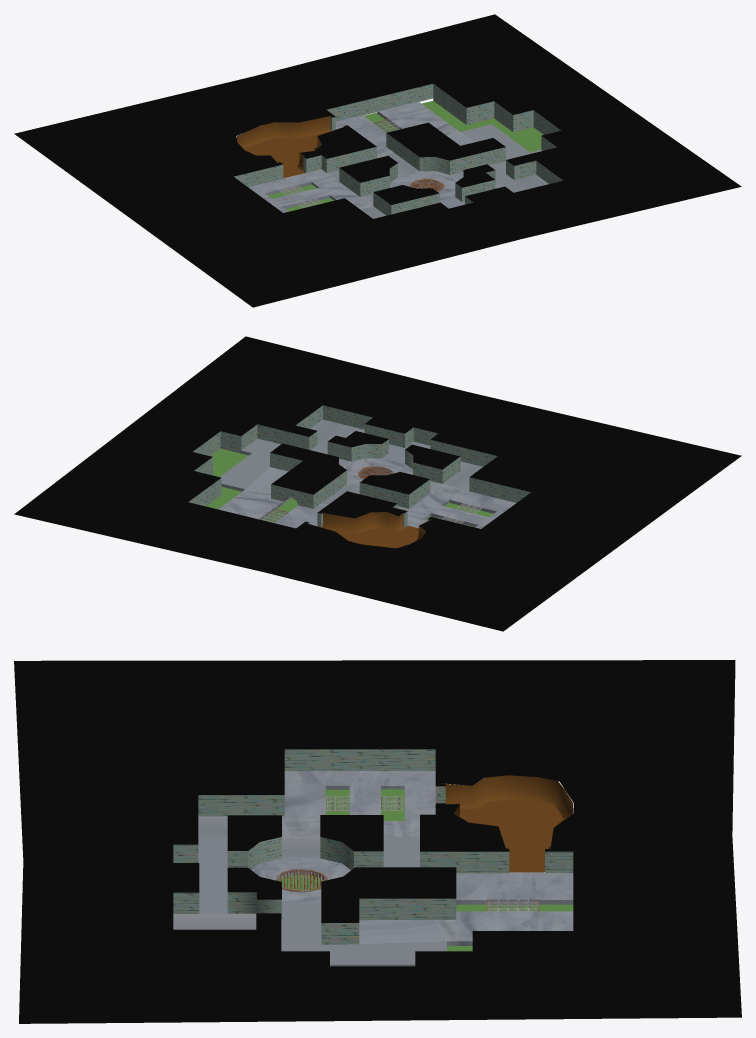
File: Sewer_Level.fbx
The picture shows the model from 3 angles, top to bottom: view 1: azimuth 30°, elevation 25°; view 2: azimuth 150°, elevation 25°; view 3: azimuth 270°, elevation 25°; orthographic projection. The views are drawn at different scales.
Parts seen in each view (by area): view 1: SW_Wall_Fill, SW_Wall_Brick, SW_Floor, SW_Room_Dirt, SW_Water; view 2: SW_Wall_Fill, SW_Wall_Brick, SW_Floor, SW_Room_Dirt, SW_Water; view 3: SW_Wall_Fill, SW_Floor, SW_Wall_Brick, SW_Room_Dirt, SW_Water, SW_GridCover.
Part boxes in pixels (x1,y1,x2,y2): SW_Wall_Fill: (14, 14, 741, 307); SW_Wall_Brick: (234, 83, 562, 215); SW_Floor: (248, 101, 548, 218); SW_Room_Dirt: (236, 115, 346, 178); SW_Water: (268, 101, 543, 211); SW_Wall_Fill: (14, 336, 741, 631); SW_Wall_Brick: (188, 405, 530, 527); SW_Floor: (218, 419, 516, 528); SW_Room_Dirt: (305, 512, 431, 548); SW_Water: (206, 448, 493, 527); SW_Wall_Fill: (14, 660, 741, 1023); SW_Floor: (173, 771, 573, 966); SW_Wall_Brick: (173, 749, 573, 944); SW_Room_Dirt: (440, 775, 572, 872); SW_Water: (279, 789, 573, 951); SW_GridCover: (274, 868, 328, 892).
Bounding box in the file's own units: 14540 × 634 × 12294.
